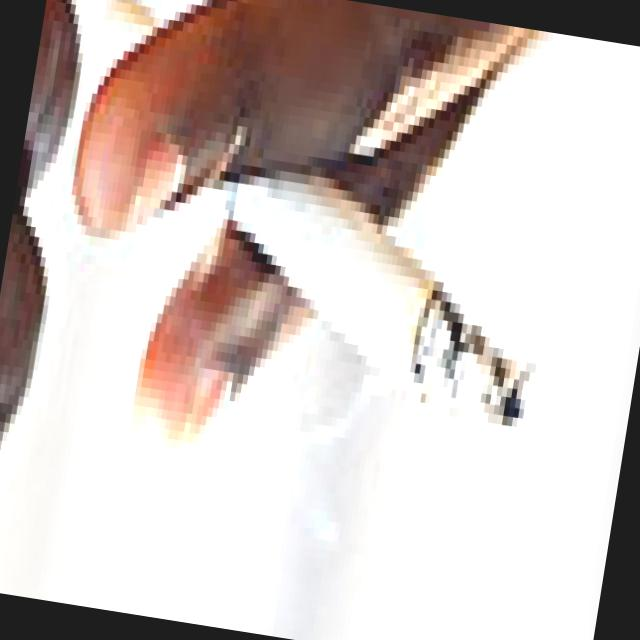cigarette: (278, 186, 541, 464)
